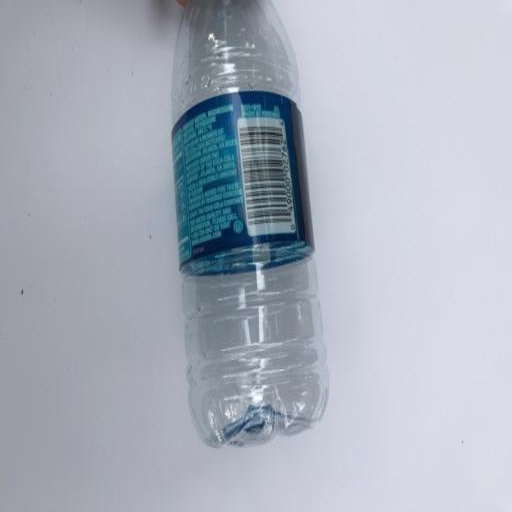Plastic_0: (167, 1, 329, 446)
